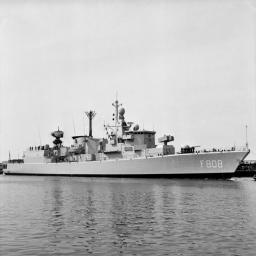Fragata: (1, 91, 253, 183)
